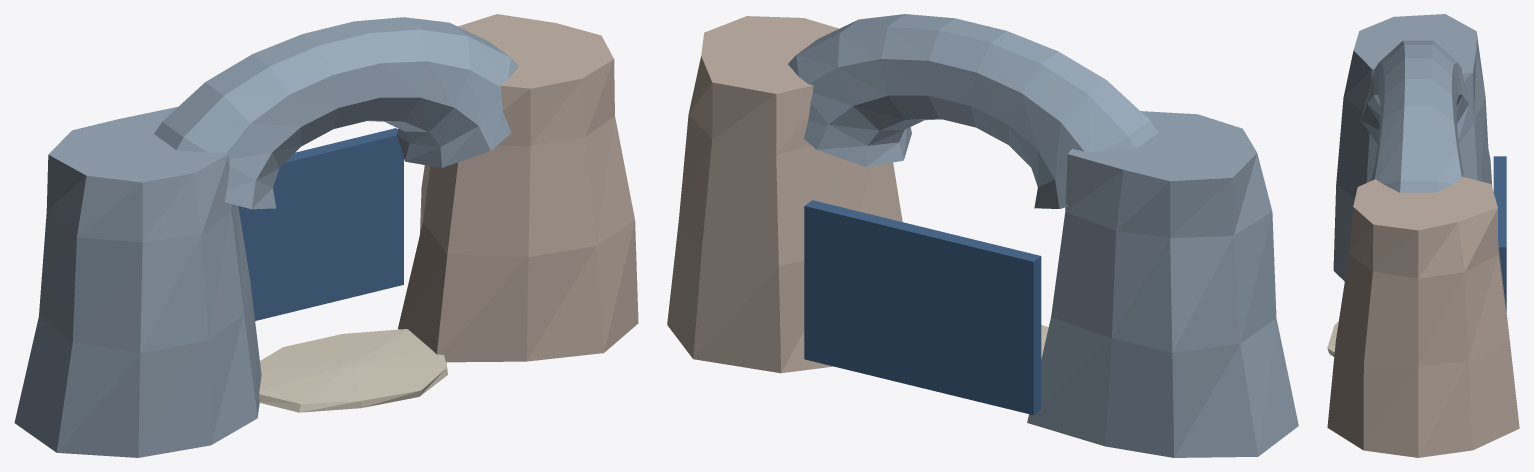
File: rock_mouth.glb
3 renders of one model, left to right at view 1: azimuth 30°, elevation 25°; view 2: azimuth 150°, elevation 25°; view 3: azimuth 270°, elevation 25°, orthographic. The views are drawn at different scales.
Visible parts, largest first — view 1: DL015_RockMouth_stone_blue, DL015_RockMouth_stone_warm, DL015_RockMouth_shadow_blue, DL015_RockMouth_sediment; view 2: DL015_RockMouth_stone_blue, DL015_RockMouth_stone_warm, DL015_RockMouth_shadow_blue; view 3: DL015_RockMouth_stone_warm, DL015_RockMouth_stone_blue, DL015_RockMouth_shadow_blue, DL015_RockMouth_sediment.
Part boxes in pixels (x1,y1,x2,y2): DL015_RockMouth_stone_blue: (14, 17, 518, 457); DL015_RockMouth_stone_warm: (398, 14, 638, 362); DL015_RockMouth_shadow_blue: (238, 128, 403, 320); DL015_RockMouth_sediment: (259, 329, 447, 412); DL015_RockMouth_stone_blue: (788, 14, 1298, 457); DL015_RockMouth_stone_warm: (667, 16, 902, 373); DL015_RockMouth_shadow_blue: (804, 200, 1041, 415); DL015_RockMouth_stone_warm: (1327, 176, 1519, 457); DL015_RockMouth_stone_blue: (1333, 14, 1492, 281); DL015_RockMouth_shadow_blue: (1493, 156, 1506, 311); DL015_RockMouth_sediment: (1327, 321, 1338, 356).
Bounding box in the file's own units: 13.05 × 7.08 × 4.47.
